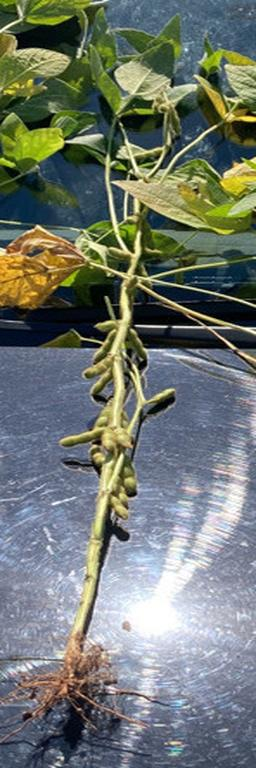pod: (57, 426, 103, 448), (129, 329, 150, 363), (88, 369, 114, 396), (147, 386, 174, 408), (122, 463, 138, 493), (115, 426, 134, 450), (112, 496, 129, 518), (92, 319, 117, 333)
soy: (24, 32, 199, 707)
